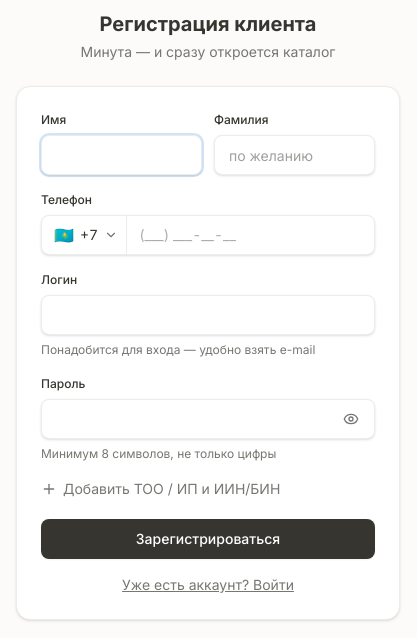
Test: RegisterPage › переключает страну по вставленному номеру с кодом
Click the field labelled "Телефон".
click(251, 235)  # box [127,216,374,254]
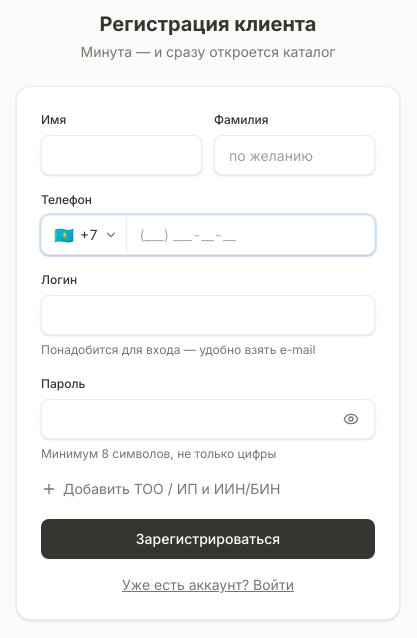
Type keys "+998 90 123 45 67"
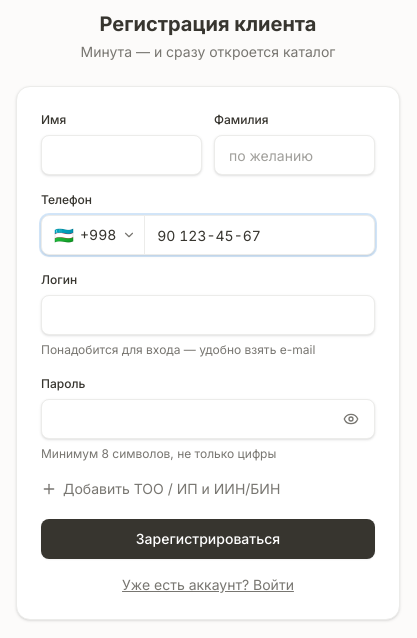
Expected: the field labelled "Телефон" holds "90 123-45-67", [145,216,374,254]
